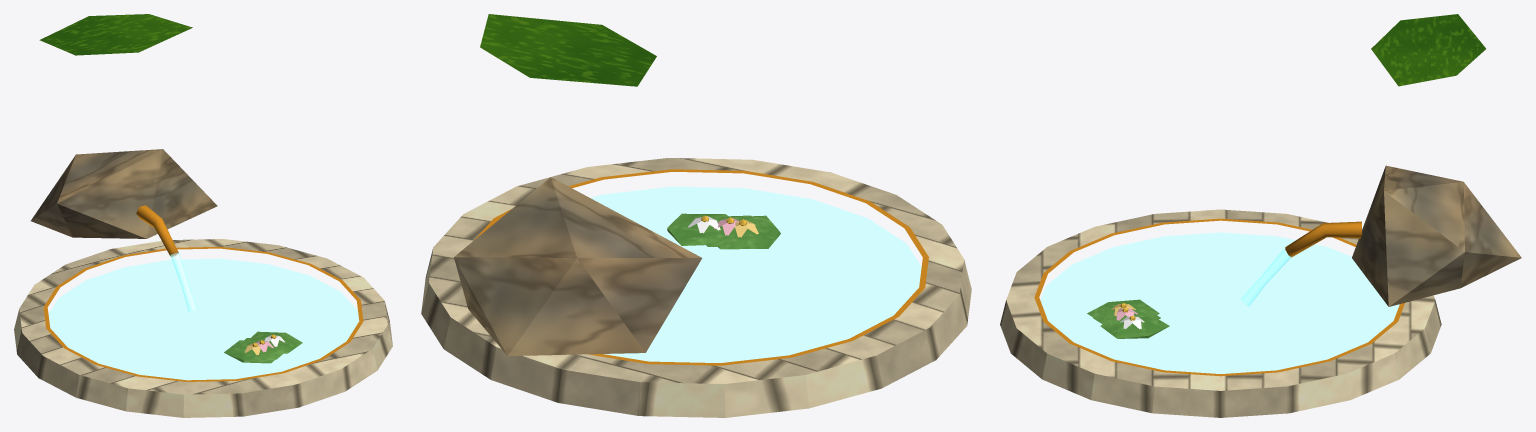
Rendered from spring_pool_sky.glb.
3 views of the same model, side by side, from view 1: azimuth 30°, elevation 25°; view 2: azimuth 150°, elevation 25°; view 3: azimuth 270°, elevation 25° (orthographic). The views are drawn at different scales.
Visible parts, largest first — view 1: spring_pool_sky; view 2: spring_pool_sky; view 3: spring_pool_sky.
Boxes of the visible parts, <box> form: spring_pool_sky: <box>14,14,392,417</box>; spring_pool_sky: <box>421,14,971,417</box>; spring_pool_sky: <box>1000,14,1521,417</box>.
Size of the model in its own units: 3.6 by 2.48 by 4.25.
7 materials, 4 textured.
